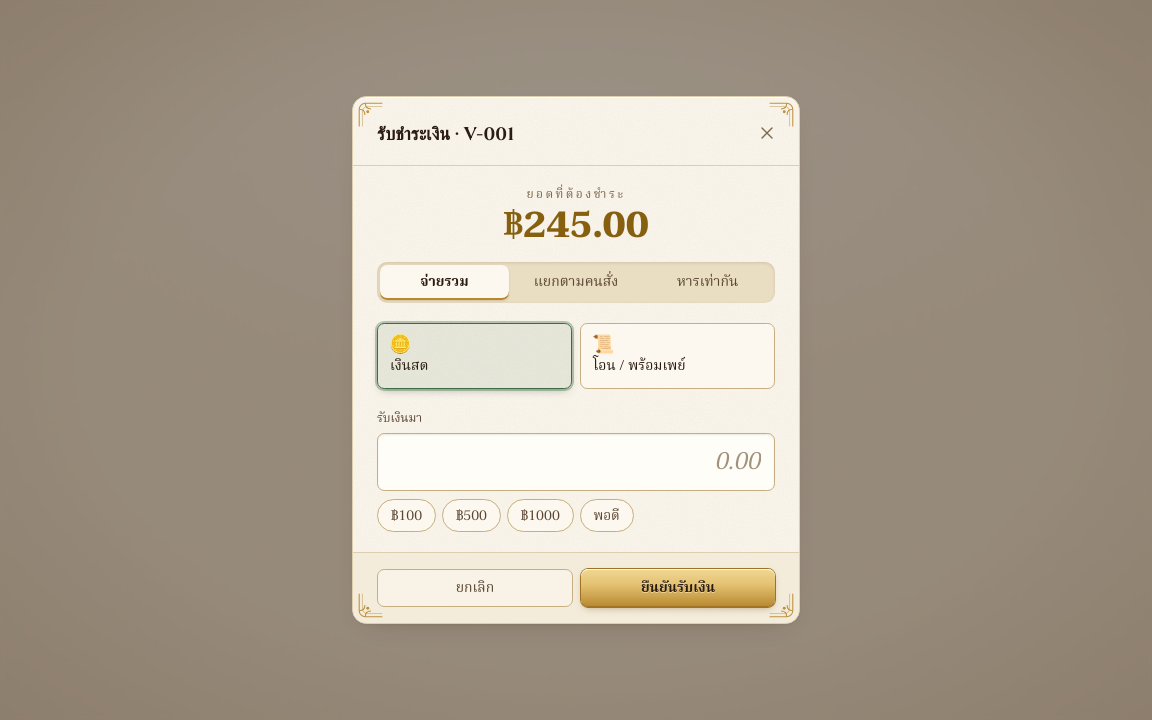
Test: หน้ารับชำระเงิน › คำนวณเงินทอนถูกต้อง
The image size is (1152, 720).
Type "500" into the field with placeholder "0.00". click: [576, 462]
box: left=377, top=433, right=775, bottom=491
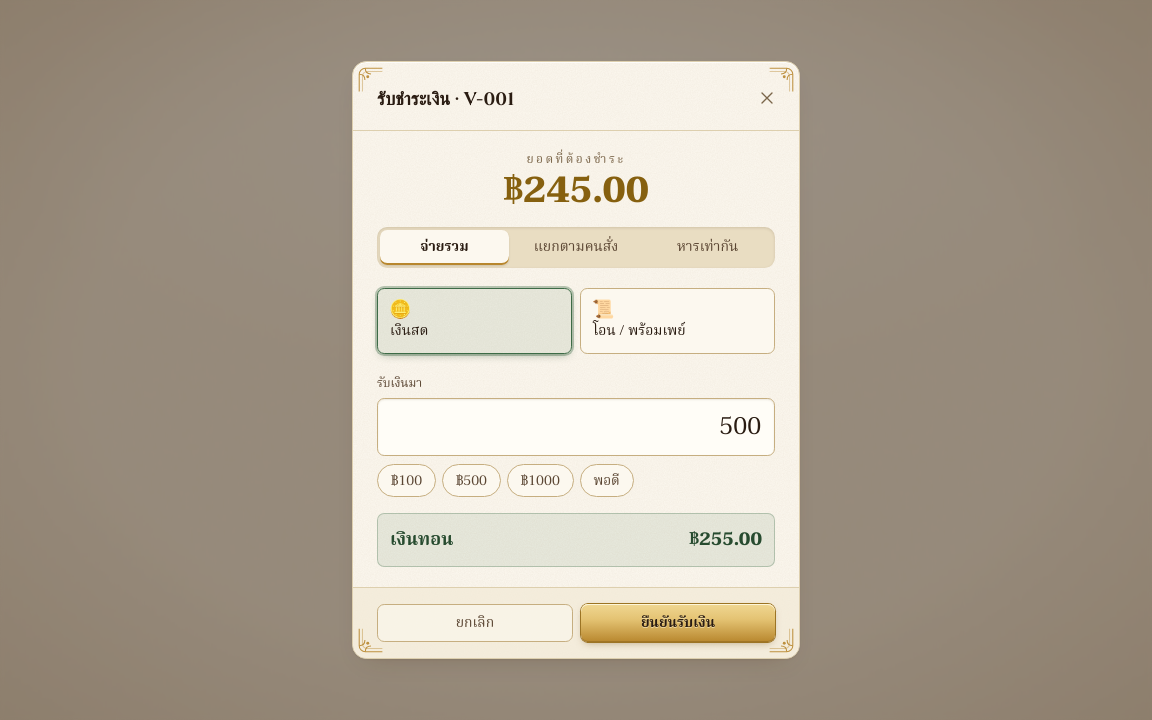
Check: the text "เงินทอน" is shown, box left=390, top=526, right=453, bottom=554
Check: the text "฿255.00" is shown, box left=689, top=526, right=762, bottom=554
